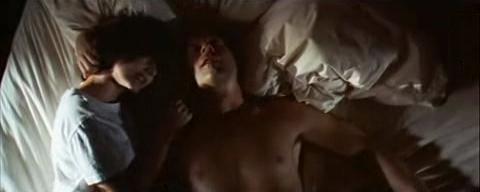face: (186, 30, 232, 84), (121, 53, 164, 93)
mcu: (1, 1, 480, 192)
person: (161, 6, 431, 192), (49, 14, 193, 192)
